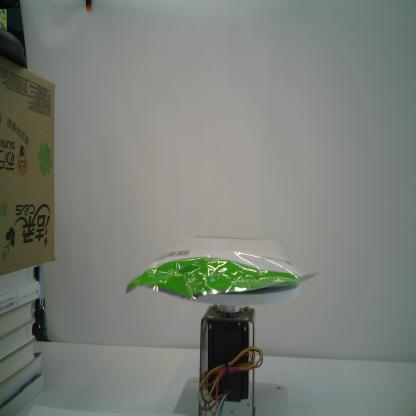Dried Food: (123, 231, 321, 304)
